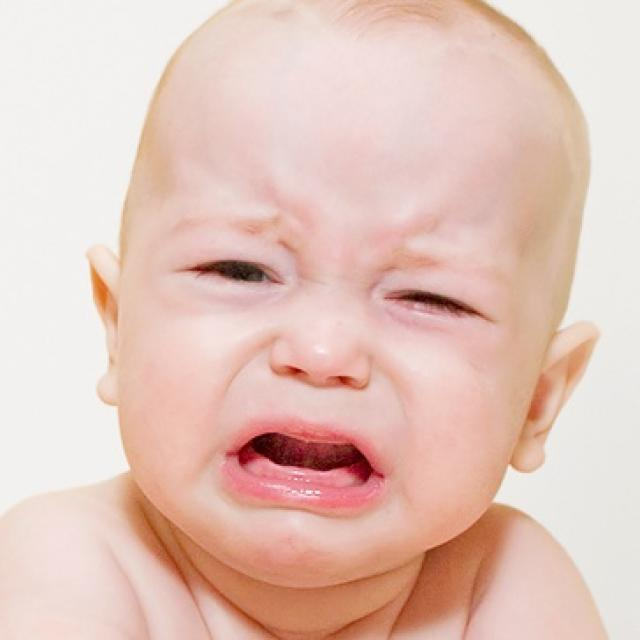Depress: (117, 0, 559, 595)
